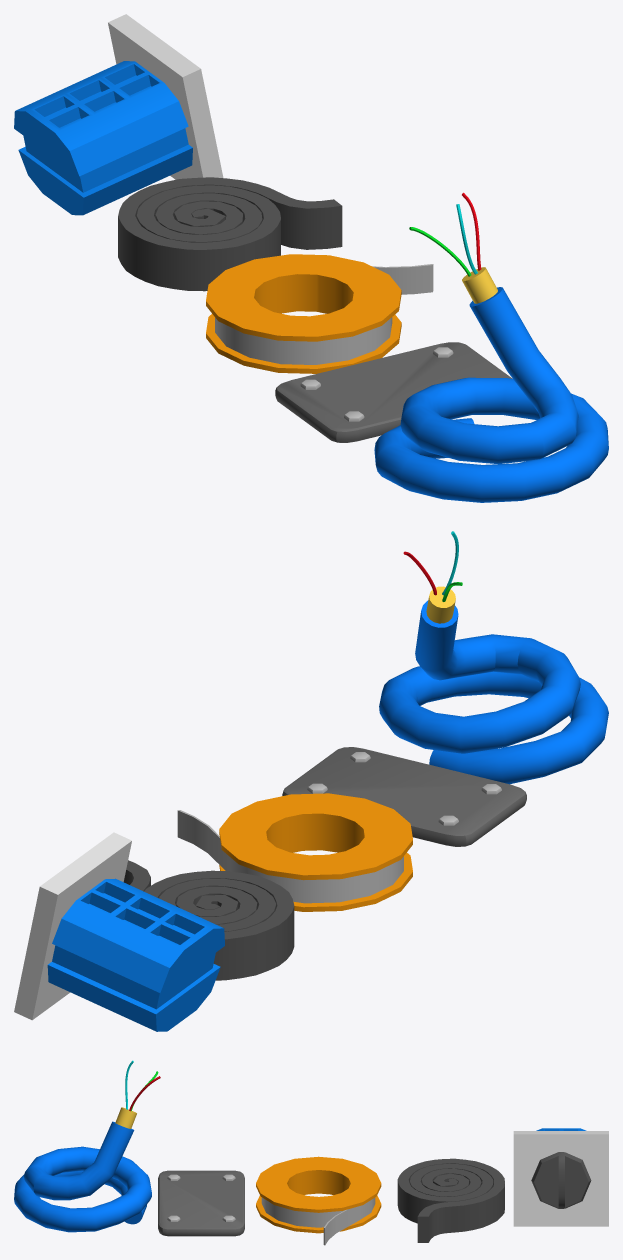
File: Collectibles.fbx
3 renders of one model, top to bottom at view 1: azimuth 30°, elevation 25°; view 2: azimuth 150°, elevation 25°; view 3: azimuth 270°, elevation 25°, orthographic. The views are drawn at different scales.
Visible parts, largest first — view 1: Cable, Switch, TeflonTape, ElecticTape, MetalPlate; view 2: Cable, Switch, TeflonTape, MetalPlate, ElecticTape; view 3: Cable, Switch, TeflonTape, ElecticTape, MetalPlate.
Part boxes in pixels (left/top/right/bottom): Cable: left=374, top=192, right=608, bottom=502; Switch: left=14, top=14, right=223, bottom=215; TeflonTape: left=206, top=254, right=433, bottom=373; ElecticTape: left=118, top=177, right=342, bottom=291; MetalPlate: left=275, top=342, right=512, bottom=442; Cable: left=379, top=531, right=608, bottom=784; Switch: left=14, top=832, right=224, bottom=1031; TeflonTape: left=177, top=793, right=412, bottom=911; MetalPlate: left=282, top=747, right=526, bottom=846; ElecticTape: left=123, top=860, right=294, bottom=980; Cable: left=14, top=1060, right=160, bottom=1232; Switch: left=513, top=1128, right=608, bottom=1226; TeflonTape: left=256, top=1156, right=381, bottom=1245; ElecticTape: left=397, top=1158, right=504, bottom=1242; MetalPlate: left=158, top=1170, right=244, bottom=1236.
Size of the model in its own units: 2.45 by 2.52 by 8.48.
